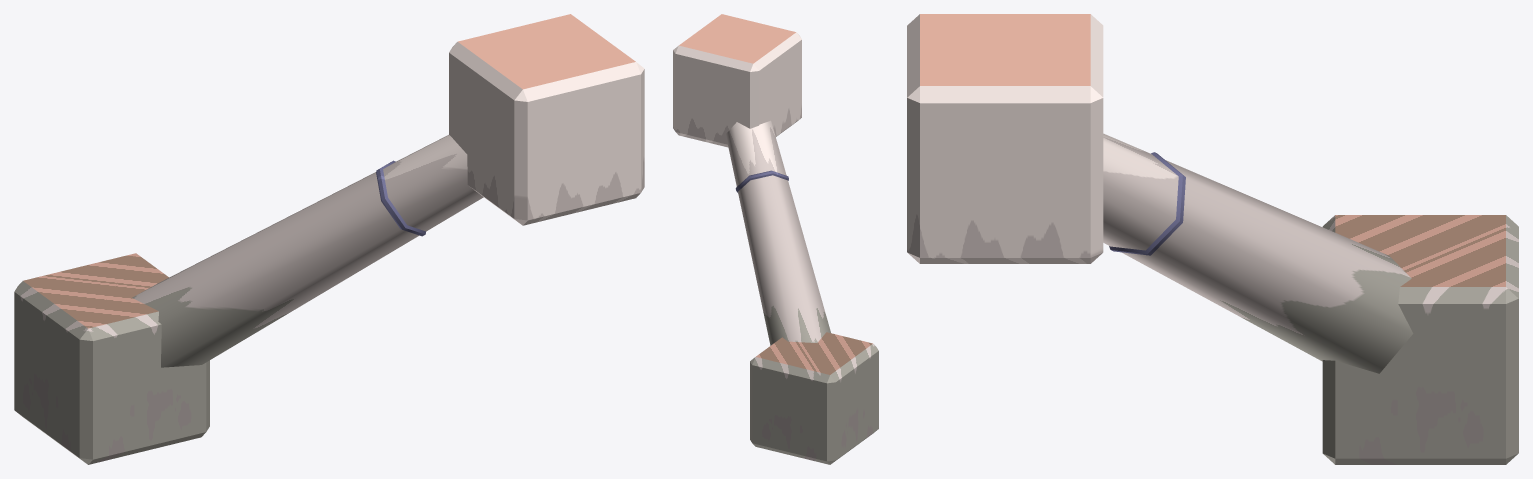
File: R4C_STRUT_DIAG_3D_LOD1.glb
3 views of the same model, side by side, from view 1: azimuth 30°, elevation 25°; view 2: azimuth 150°, elevation 25°; view 3: azimuth 270°, elevation 25° (orthographic). The views are drawn at different scales.
Parts seen in each view (by area): view 1: R4C_STRUT_DIAG_3D_LOD1; view 2: R4C_STRUT_DIAG_3D_LOD1; view 3: R4C_STRUT_DIAG_3D_LOD1.
Boxes of the visible parts, x1,y1,x2,y2 form: R4C_STRUT_DIAG_3D_LOD1: (14,14,644,464); R4C_STRUT_DIAG_3D_LOD1: (673,14,878,464); R4C_STRUT_DIAG_3D_LOD1: (907,14,1518,464).
Size of the model in its own units: 1.62 by 1.62 by 1.62.
3 materials, 3 textured.
